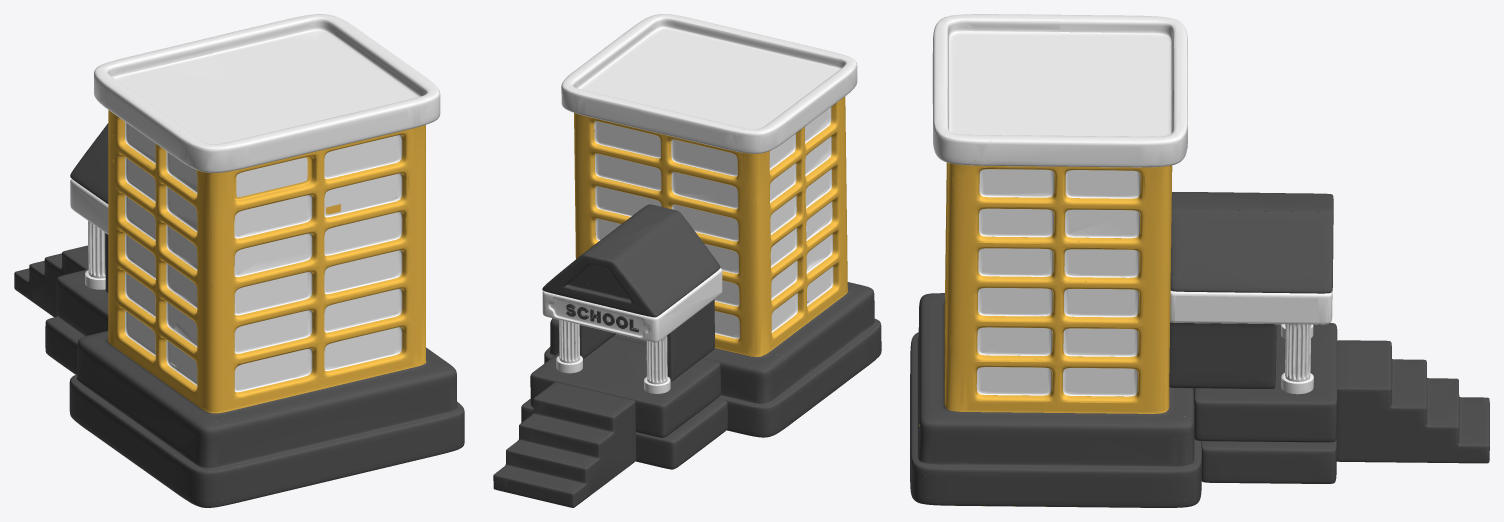
File: School.glb
3 views of the same model, side by side, from view 1: azimuth 30°, elevation 25°; view 2: azimuth 150°, elevation 25°; view 3: azimuth 270°, elevation 25° (orthographic). The views are drawn at different scales.
Parts seen in each view (by area): view 1: Cube.002; view 2: Cube.002; view 3: Cube.002.
Part boxes in pixels (x1=…): Cube.002: x1=14, y1=14, x2=464, y2=507; Cube.002: x1=493, y1=14, x2=881, y2=507; Cube.002: x1=910, y1=14, x2=1489, y2=507.
Size of the model in its own units: 11.59 by 14.29 by 20.51.
